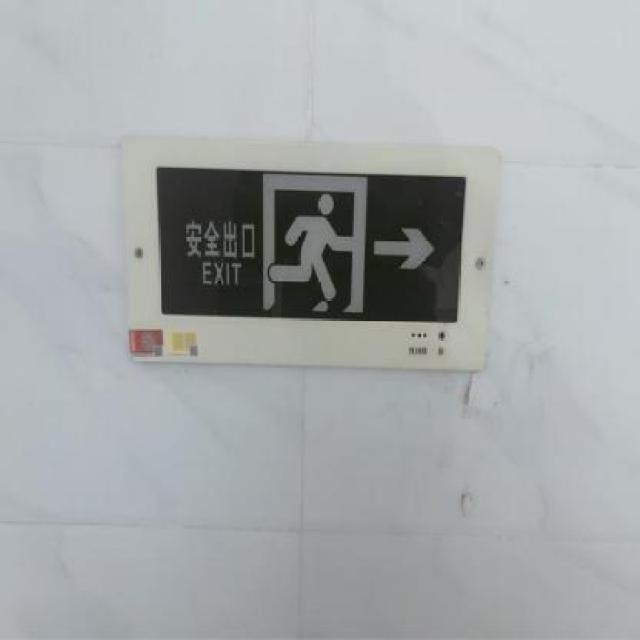exit_sign: (104, 120, 493, 388)
